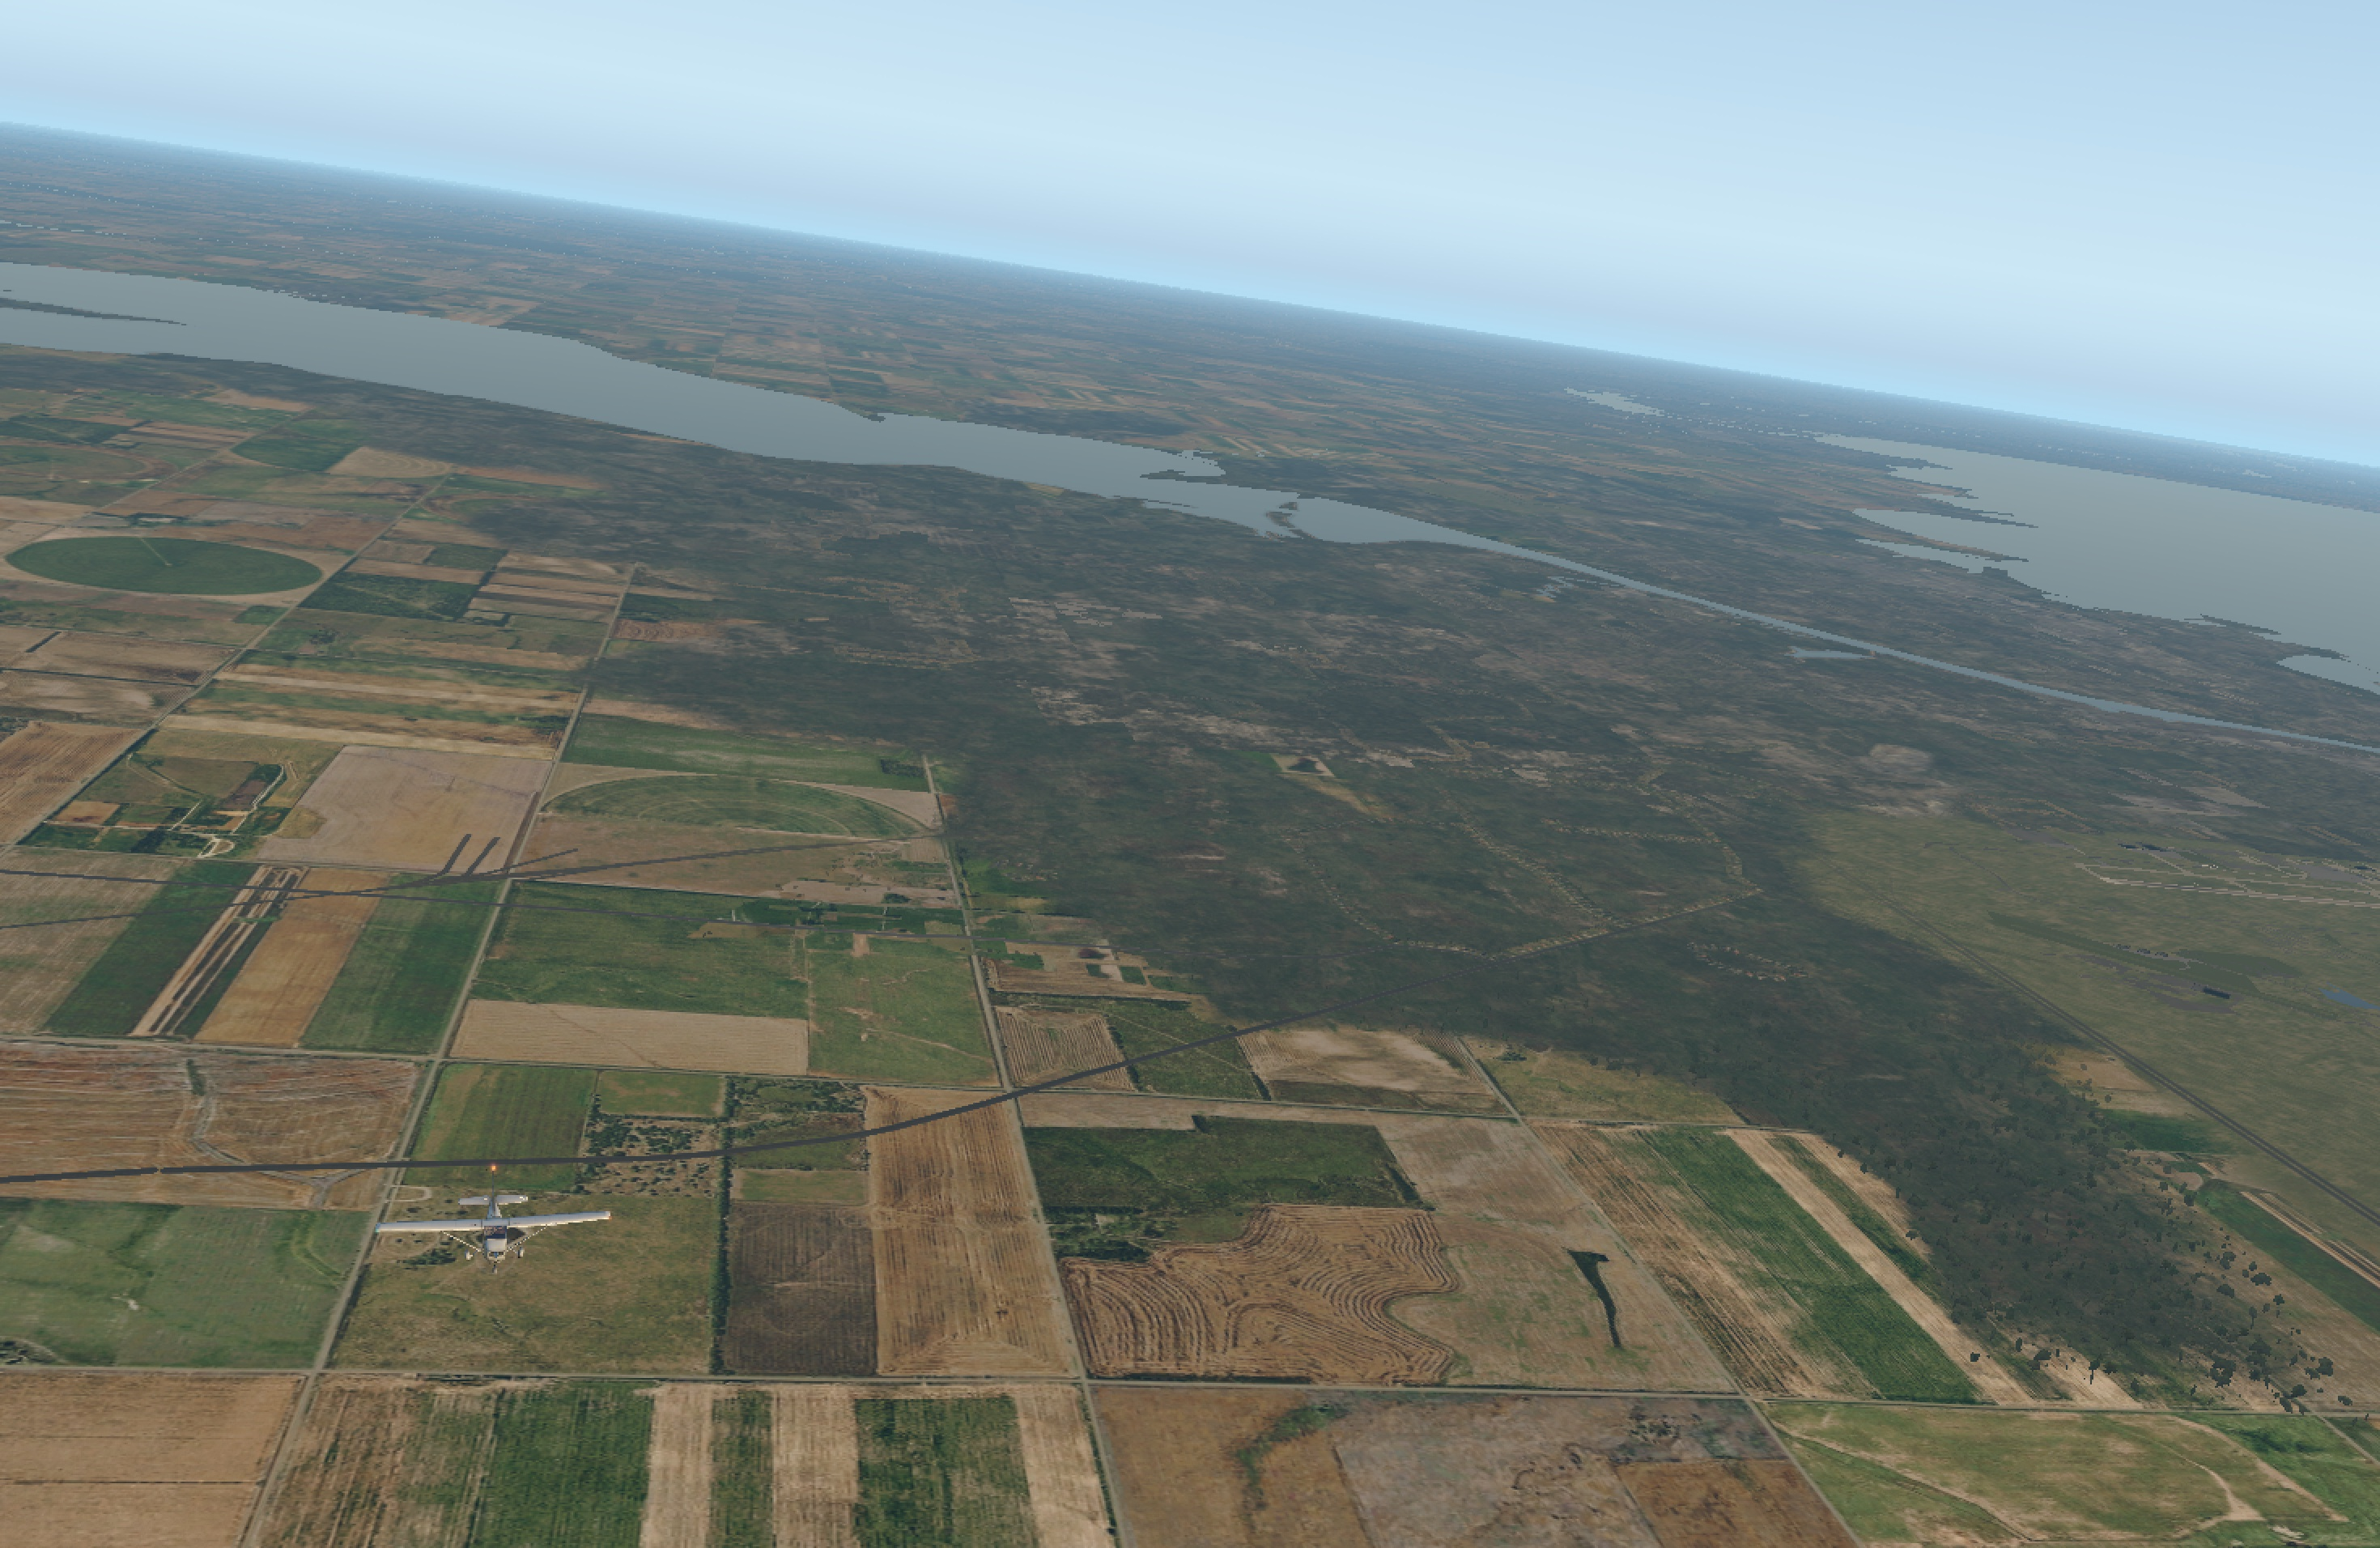aircraft: (422, 1208, 569, 1263)
